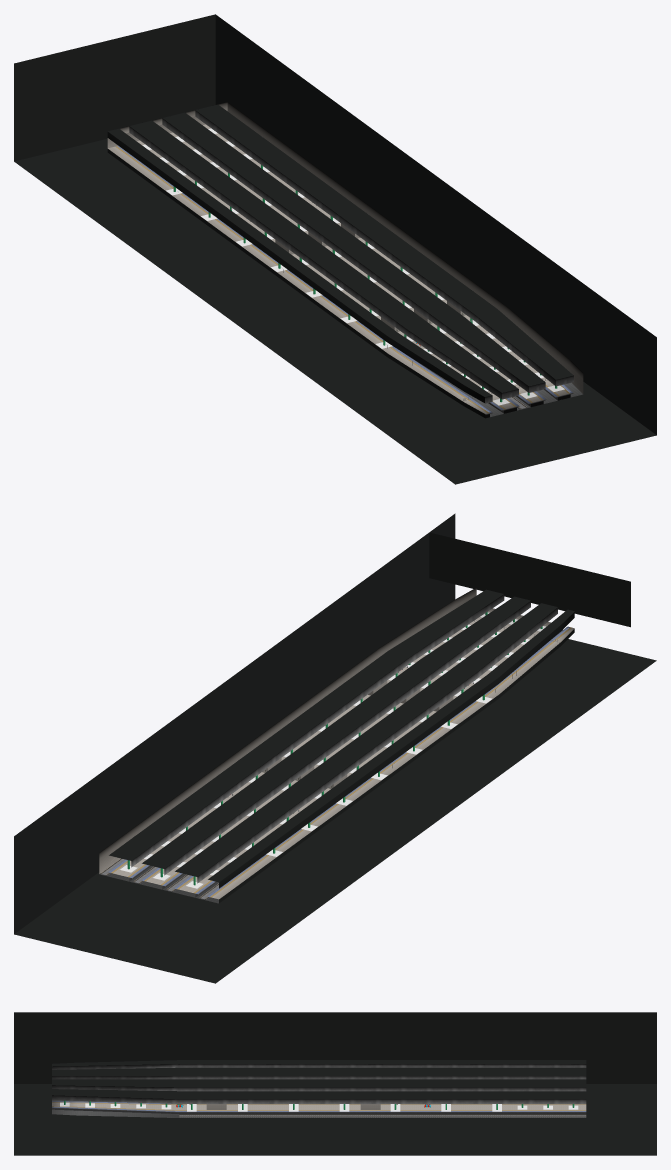
File: KIN_NARA.glb
The picture shows the model from 3 angles, top to bottom: view 1: azimuth 30°, elevation 25°; view 2: azimuth 150°, elevation 25°; view 3: azimuth 270°, elevation 25°; orthographic projection. The views are drawn at different scales.
Visible parts, largest first — view 1: J00; view 2: J00; view 3: J00.
Boxes of the visible parts, <box> form: J00: <box>14,14,656,484</box>; J00: <box>14,513,656,983</box>; J00: <box>14,1012,656,1155</box>.
Size of the model in its own units: 167 by 77.44 by 632.
Materials: 39 (37 with a texture image).
